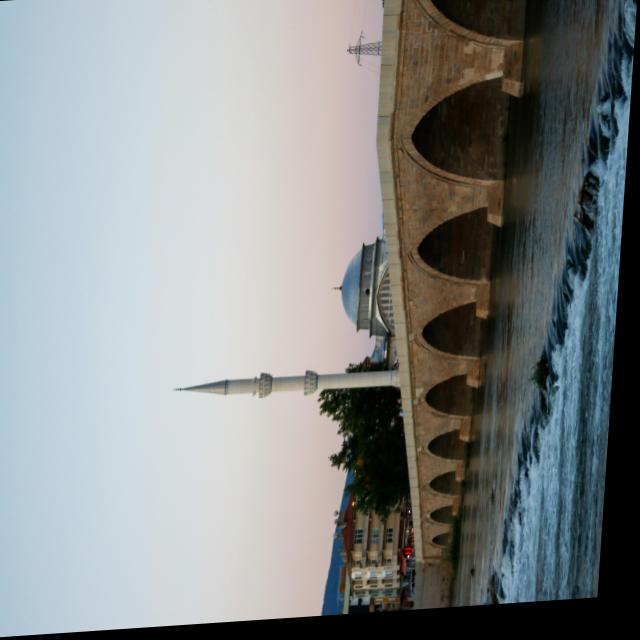Stone Bridge: (313, 0, 538, 616)
